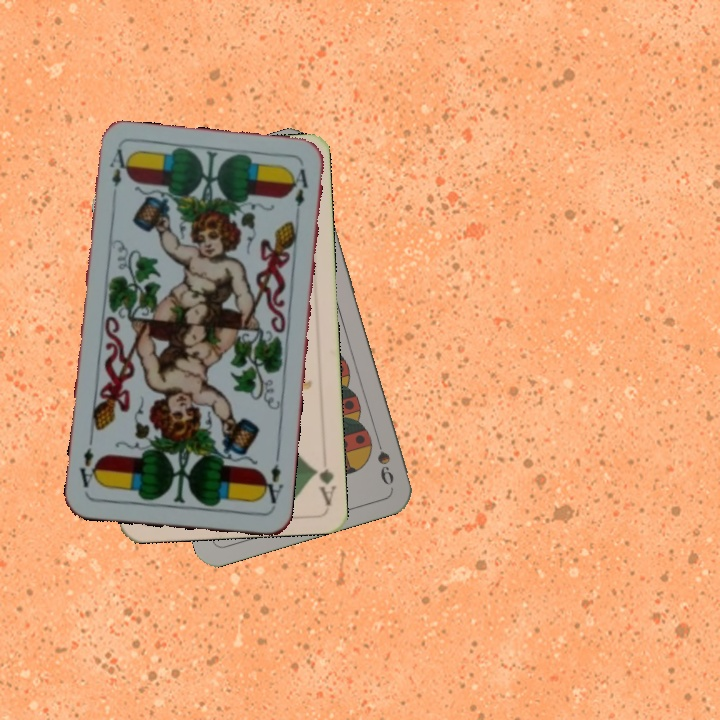EA: (258, 451, 286, 510), (105, 145, 130, 189)
GA: (310, 464, 338, 507)
S9: (371, 430, 397, 488)
